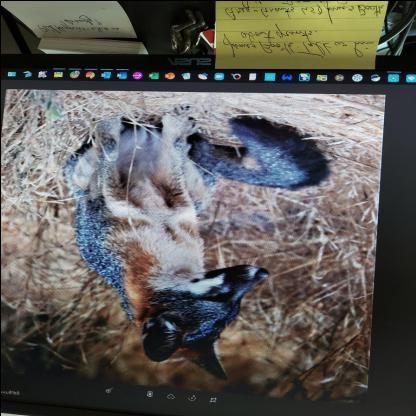zorro: (57, 109, 349, 380)
